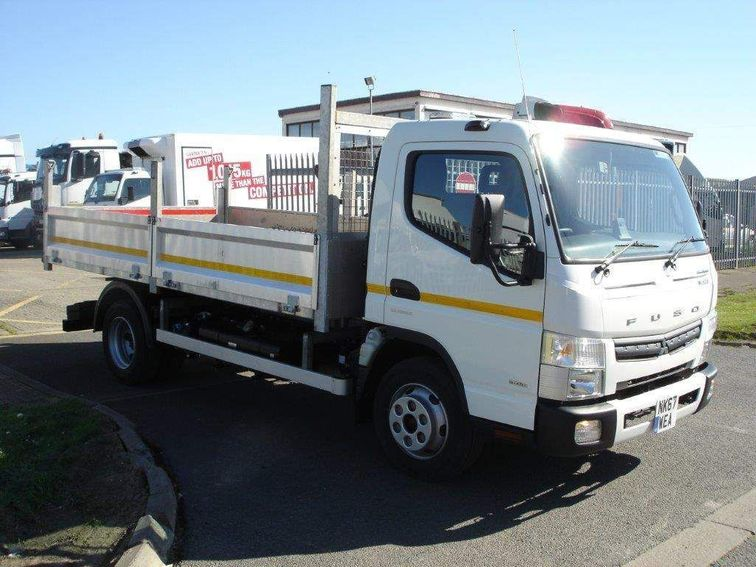Semi: (41, 83, 716, 477)
